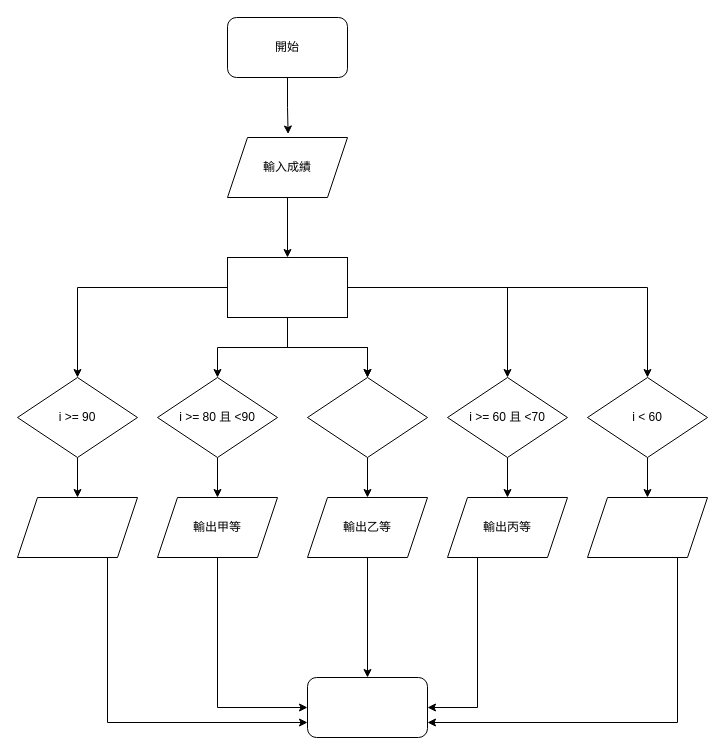
Some shapes in this 725 by 755 pixel diagram are drawn without their labels. The shapes that lost their labels are listed below. From the top down, each one's centre as x and y in pixels, then its label:
point 287,287: 成績 = 變數 i
point 367,417: i >= 70 且 <80
point 77,527: 輸出優等
point 647,527: 輸出丁等
point 367,707: 結束
